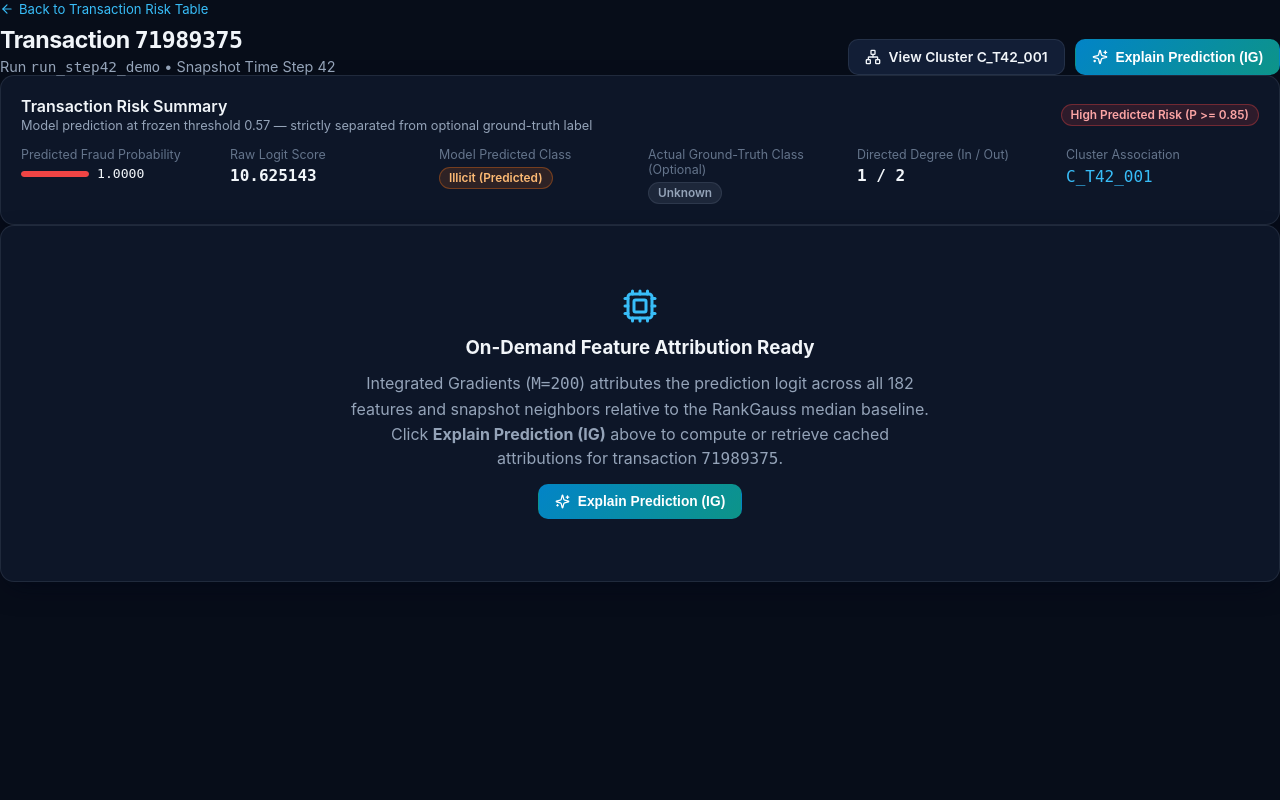
Test case: TransactionDetailPage › displays API explanation errors cleanly and allows retry
Expected: the heading "Transaction 71989375" is shown, x1=0 y1=26 x2=243 y2=54
Click the button "Explain Prediction (IG)" in the row of "View Cluster" at {"x": 1177, "y": 57}, box x1=1074 y1=39 x2=1279 y2=75
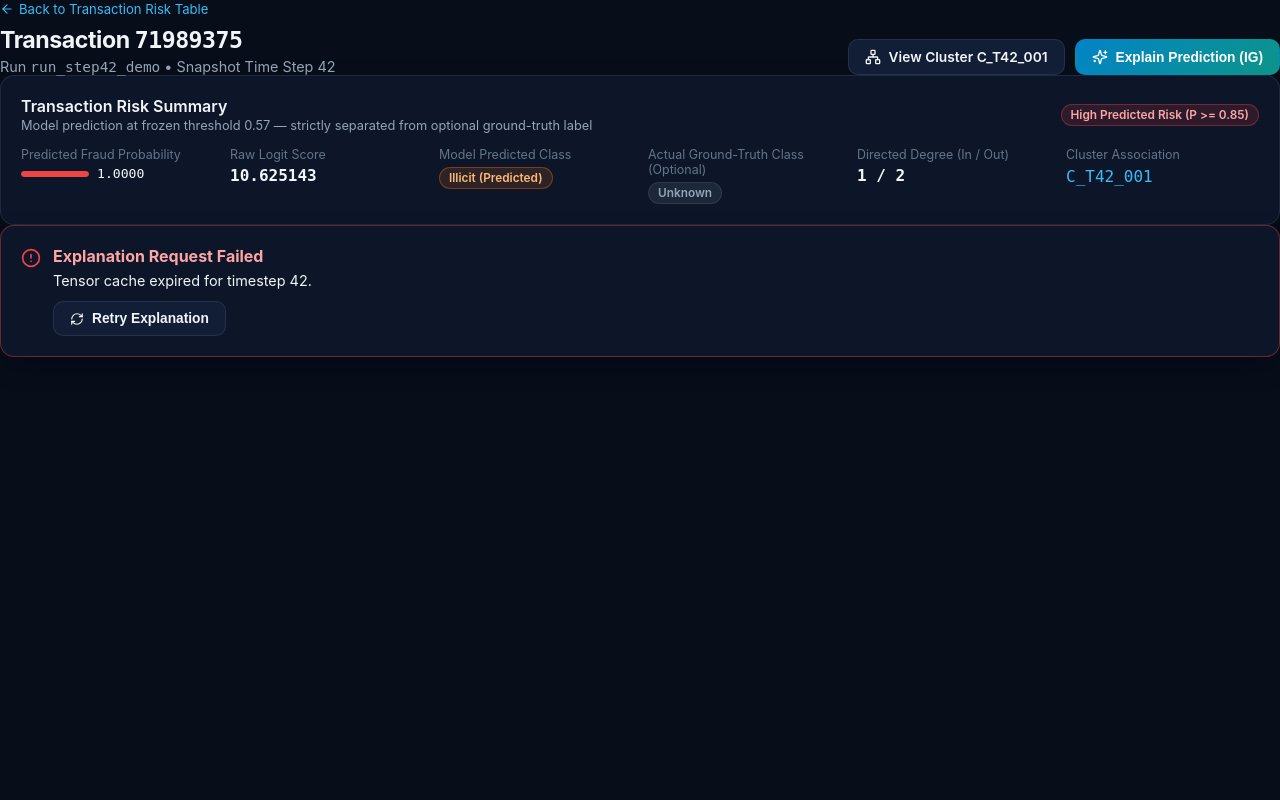
Result: the text "Tensor cache expired for timestep 42." is shown at x1=53 y1=272 x2=312 y2=289
Click the button "Retry Explanation" at {"x": 139, "y": 318}, box x1=53 y1=301 x2=226 y2=336
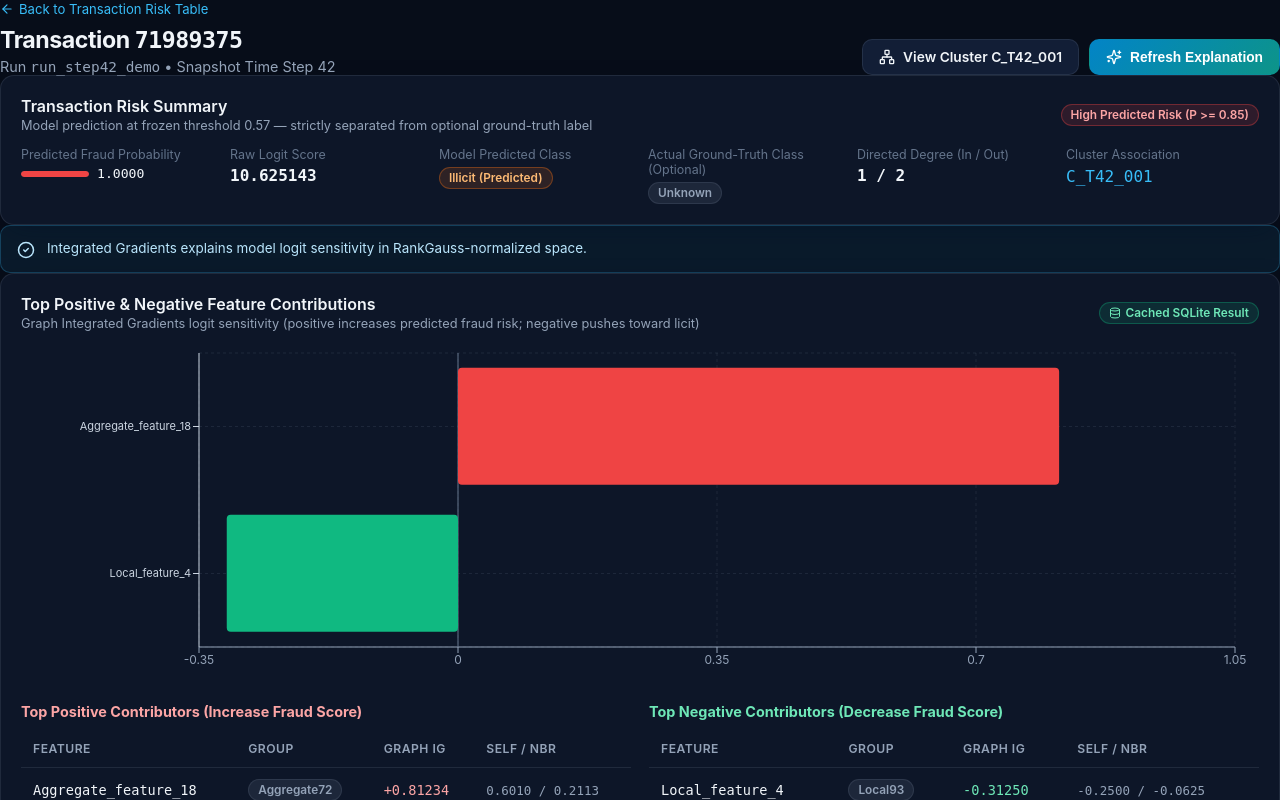
Result: the text "Cached SQLite Result" is shown at x1=1099 y1=302 x2=1259 y2=324
